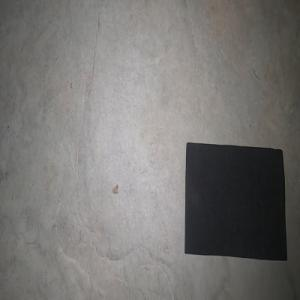PaintChip: (184, 141, 287, 261)
